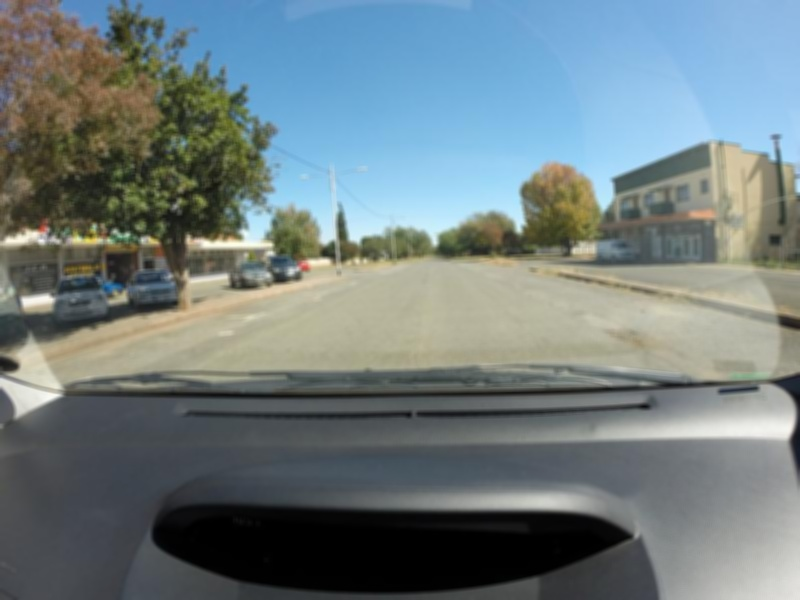pothole: (600, 324, 648, 351)
